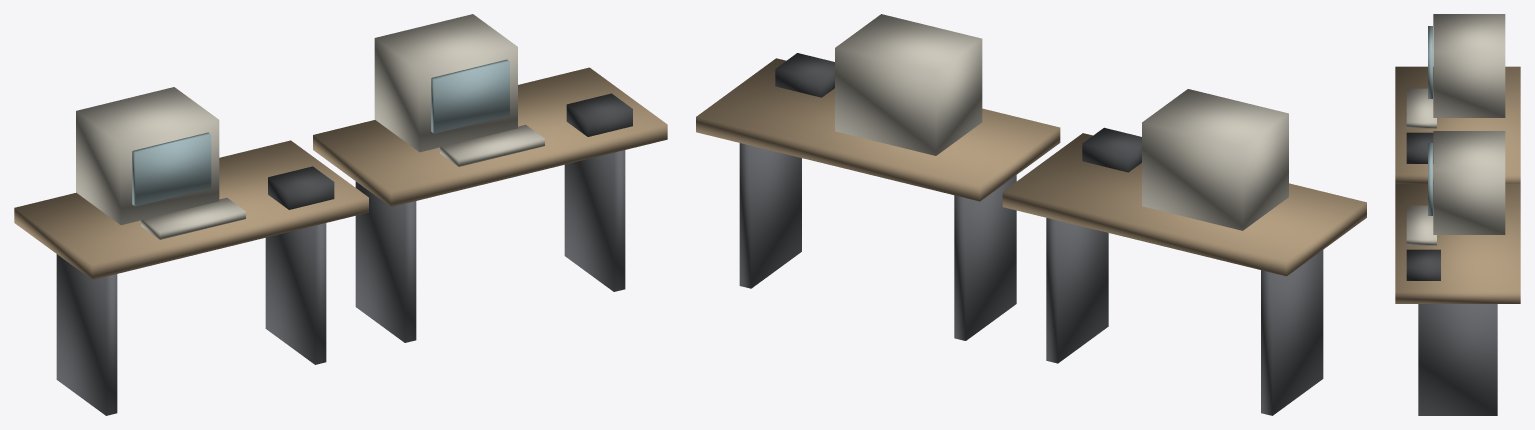
The model's file is crt_workstation__cluster.glb.
3 renders of one model, left to right at view 1: azimuth 30°, elevation 25°; view 2: azimuth 150°, elevation 25°; view 3: azimuth 270°, elevation 25°, orthographic. The views are drawn at different scales.
Visible parts, largest first — view 1: world; view 2: world; view 3: world.
Part boxes in pixels (x1,y1,x2,y2): world: [14, 14, 667, 415]; world: [696, 14, 1366, 415]; world: [1395, 14, 1520, 415].
Bounding box in the file's own units: 2.81 × 1.21 × 0.66.
